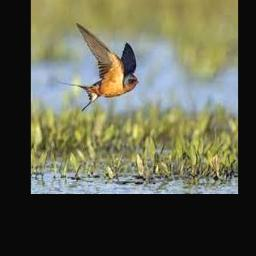Swallow: (58, 23, 139, 112)
